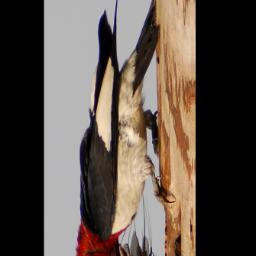Woodpecker: (73, 0, 175, 256)
